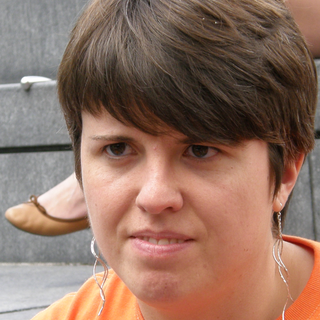eye: (175, 132, 235, 175), (80, 132, 152, 167)
